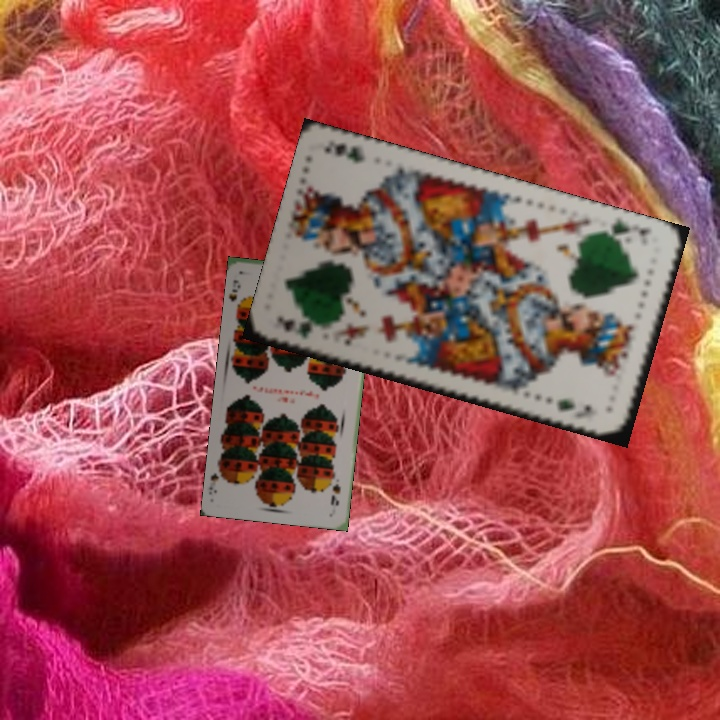GK: (599, 214, 653, 244), (274, 312, 316, 341)
S9: (228, 276, 246, 313), (327, 479, 343, 508)
